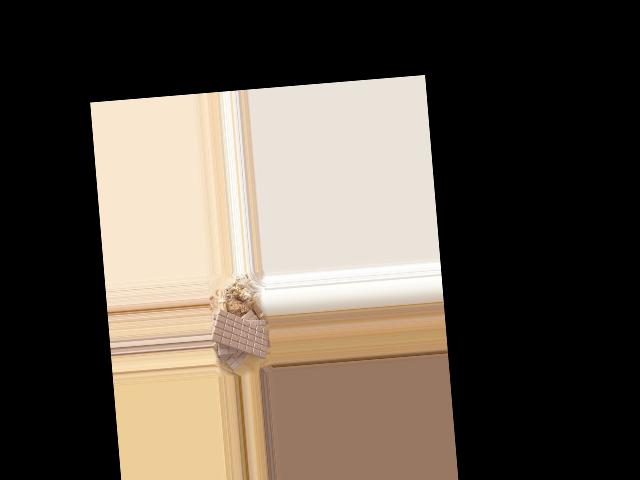chocolate: (209, 302, 269, 363)
